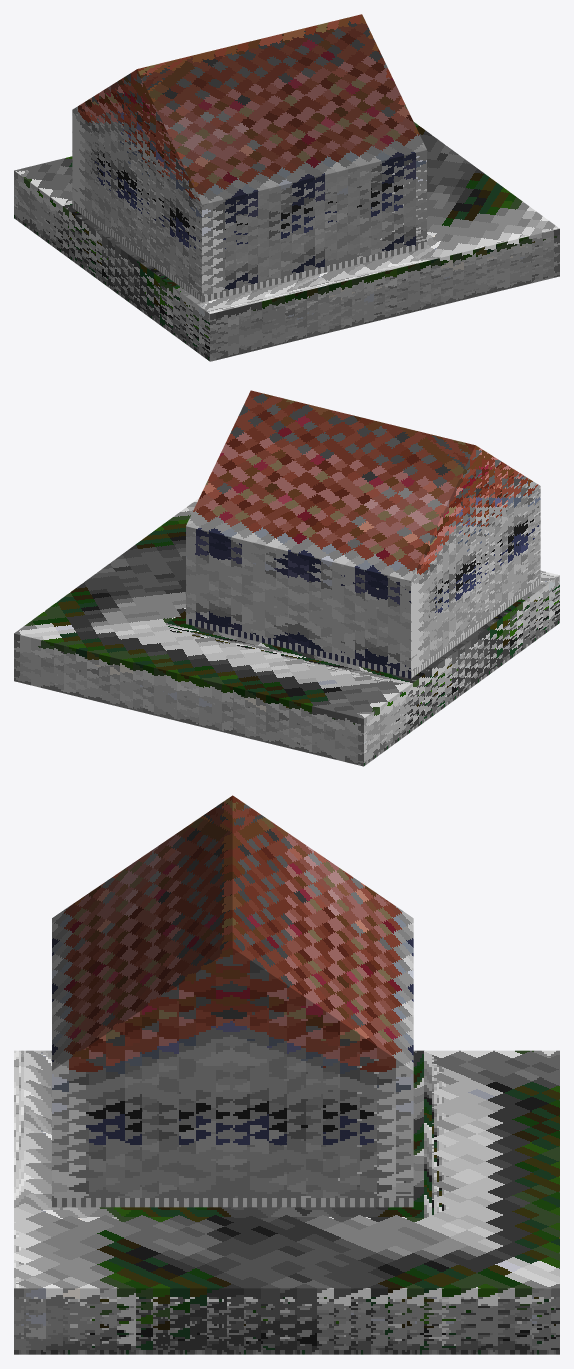
Rendered from dum_4e_domy.glb.
3 renders of one model, top to bottom at view 1: azimuth 30°, elevation 25°; view 2: azimuth 150°, elevation 25°; view 3: azimuth 270°, elevation 25°, orthographic. The views are drawn at different scales.
Bounding box in the file's own units: 14.38 × 9.19 × 13.97.
1 material, 1 textured.
